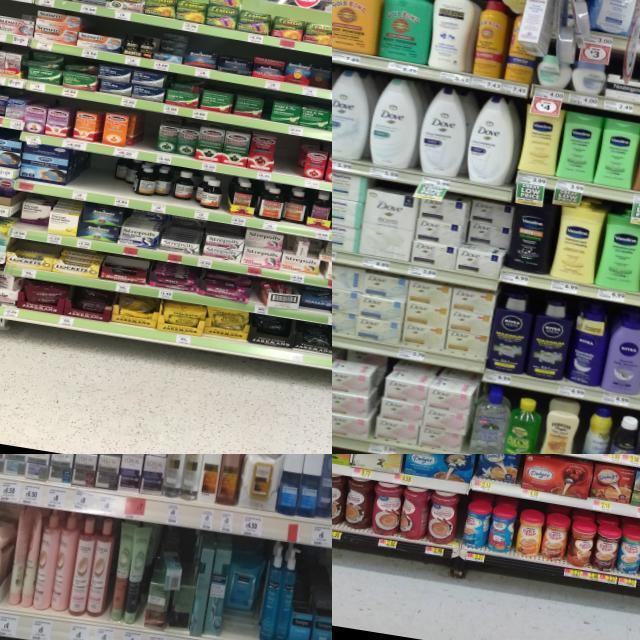empty: (72, 151, 116, 205), (272, 134, 302, 185), (138, 112, 160, 162)
